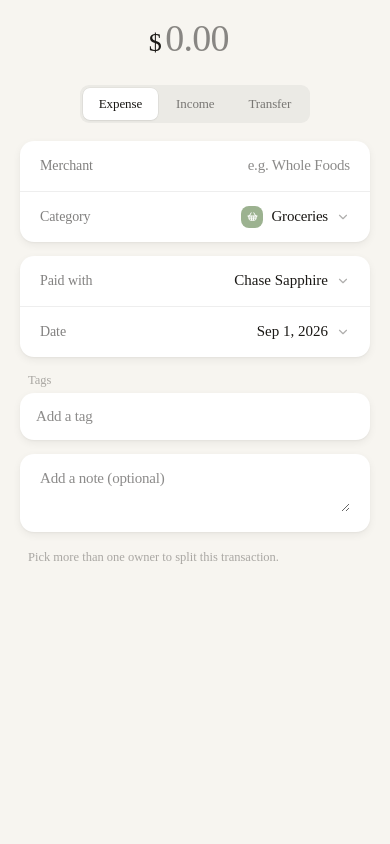
TxForm — income deposit accounts (spec 033) › income form offers the configured deposit accounts under "Deposit to"
Note: Switch to income
Click the tab "Income": x=195, y=104 [160, 88, 230, 120]
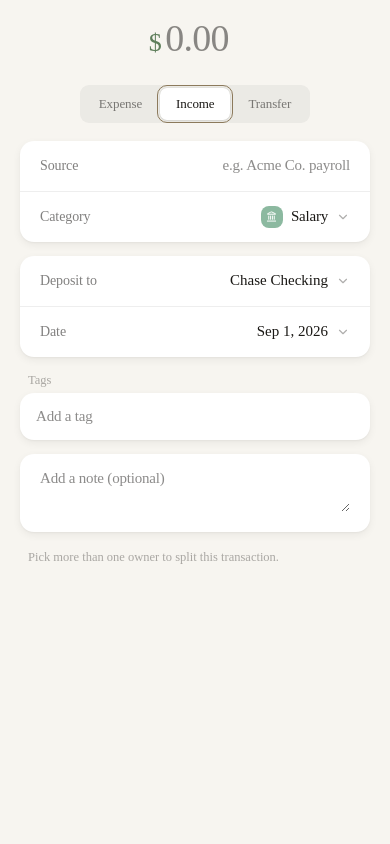
Check: the button "Deposit to Chase Checking" is shown
Note: Expanded, it lists every configured deposit account.
Click the button "Deposit to Chase Checking": x=68, y=280 [20, 256, 370, 306]
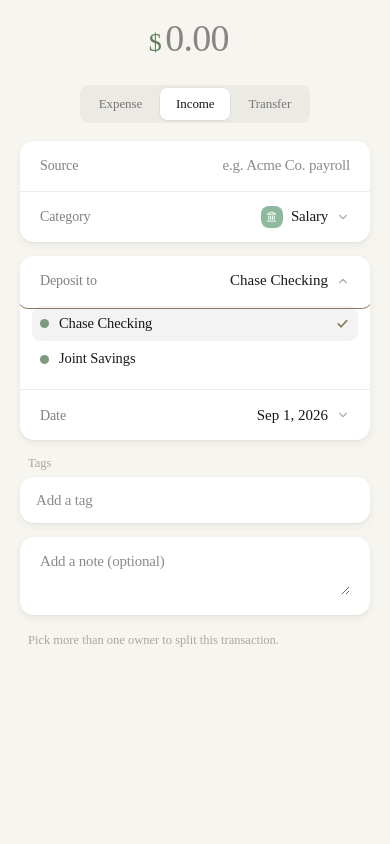
Check: the button "Chase Checking" is shown, box [32, 306, 358, 341]
Check: the button "Joint Savings" is shown, box [32, 341, 358, 377]
